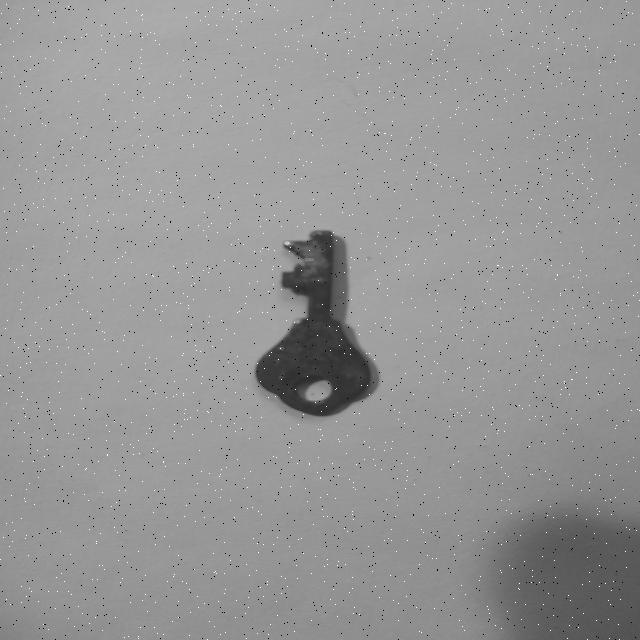key: (256, 231, 371, 416)
